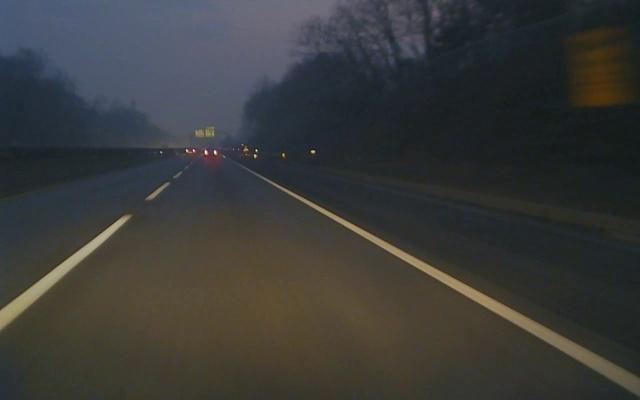lane: (229, 161, 640, 397), (0, 157, 198, 331)
